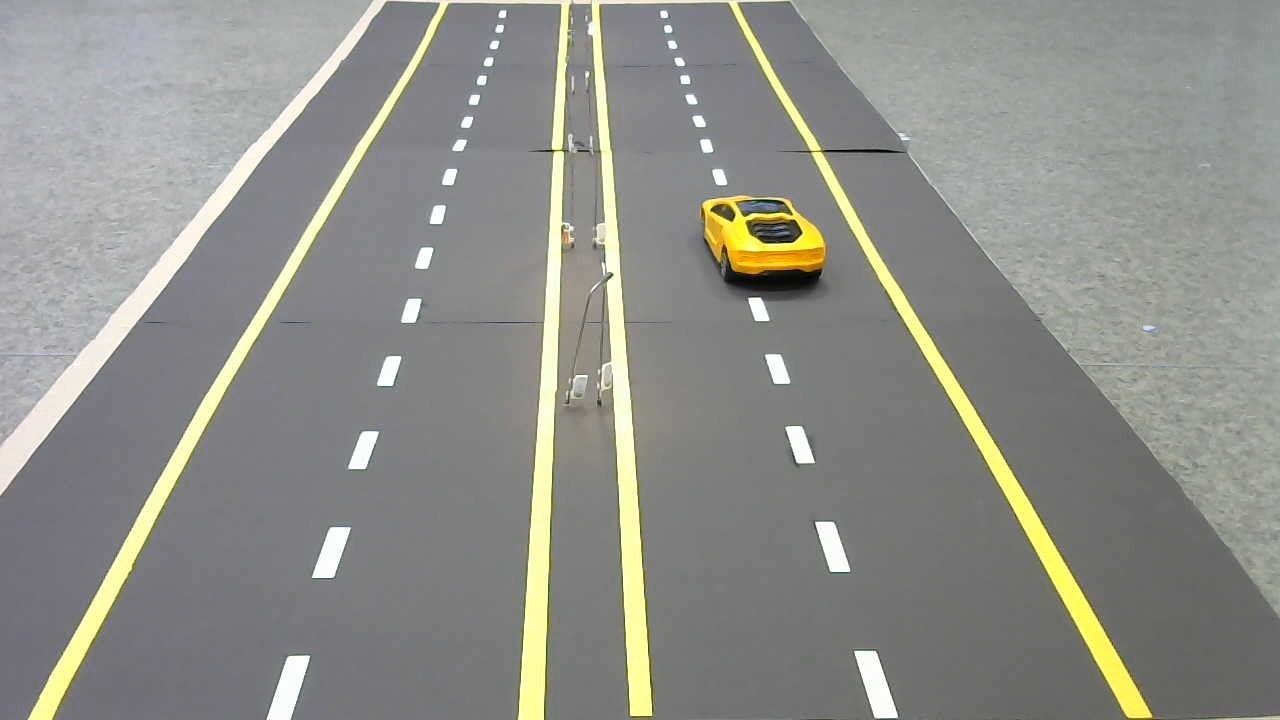back_car: (696, 193, 829, 282)
